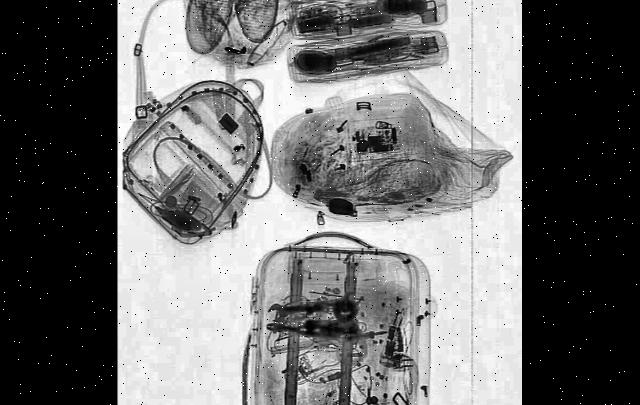Wrench: (268, 290, 362, 327)
